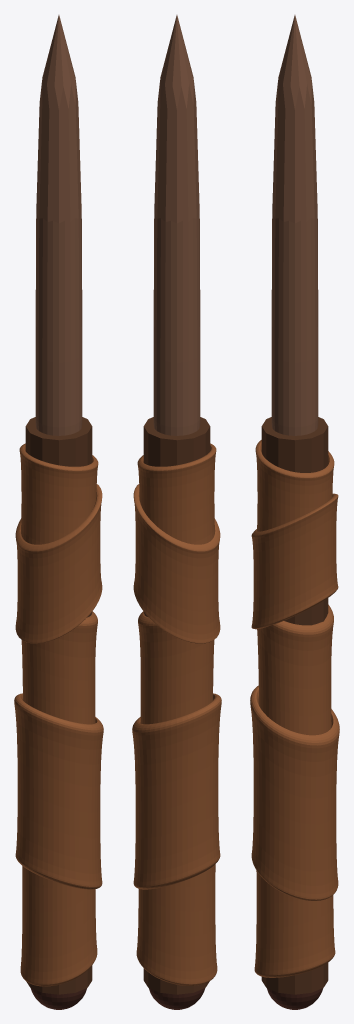
Rendered from Wand 303.glb.
3 views of the same model, side by side, from view 1: azimuth 30°, elevation 25°; view 2: azimuth 150°, elevation 25°; view 3: azimuth 330°, elevation 25° (orthographic).
Parts seen in each view (by area): view 1: GeneratedWand; view 2: GeneratedWand; view 3: GeneratedWand.
Part boxes in pixels (left/top/right/bottom): GeneratedWand: left=14, top=15, right=103, bottom=1009; GeneratedWand: left=132, top=15, right=221, bottom=1009; GeneratedWand: left=250, top=15, right=339, bottom=1009.
Size of the model in its own units: 0.0408 by 0.4987 by 0.0408.
